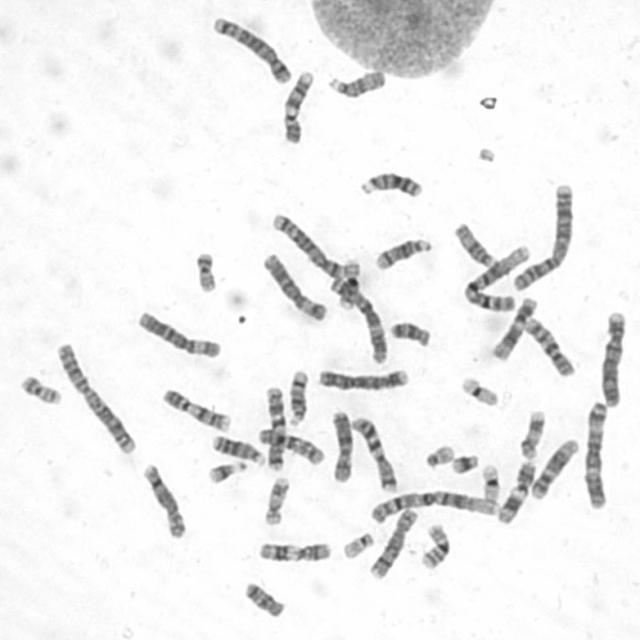A1: (459, 241, 532, 312), (367, 486, 498, 525)
A2: (54, 338, 138, 456), (509, 180, 575, 293)
A3: (327, 274, 389, 366), (580, 397, 612, 509)
B4: (596, 308, 628, 409), (314, 364, 411, 393)
B5: (208, 12, 294, 84), (268, 210, 349, 279)
C10: (521, 314, 577, 379), (253, 424, 326, 468)
C11: (494, 457, 538, 525), (255, 538, 332, 564)
C12: (526, 435, 580, 501), (488, 294, 539, 362)
C6: (260, 250, 328, 323), (134, 308, 223, 360)
C7: (348, 413, 398, 492), (262, 382, 287, 472)
C8: (138, 460, 187, 541), (367, 505, 419, 581)
C9: (158, 384, 232, 433), (279, 66, 317, 145)
D13: (209, 430, 265, 468), (358, 168, 424, 200)
D14: (372, 234, 433, 272), (285, 367, 311, 426)
D15: (324, 64, 388, 100), (451, 219, 495, 268)
E16: (417, 520, 452, 570), (338, 258, 362, 311)
E17: (260, 473, 292, 528), (516, 407, 546, 461)
E18: (242, 578, 286, 620), (386, 317, 433, 349)
F19: (457, 374, 501, 408), (479, 462, 502, 505)
F20: (18, 372, 64, 406), (191, 248, 220, 294)
G21: (204, 458, 249, 485), (448, 450, 480, 475)
G22: (339, 528, 376, 560), (421, 441, 456, 469)
X: (328, 408, 356, 484)
